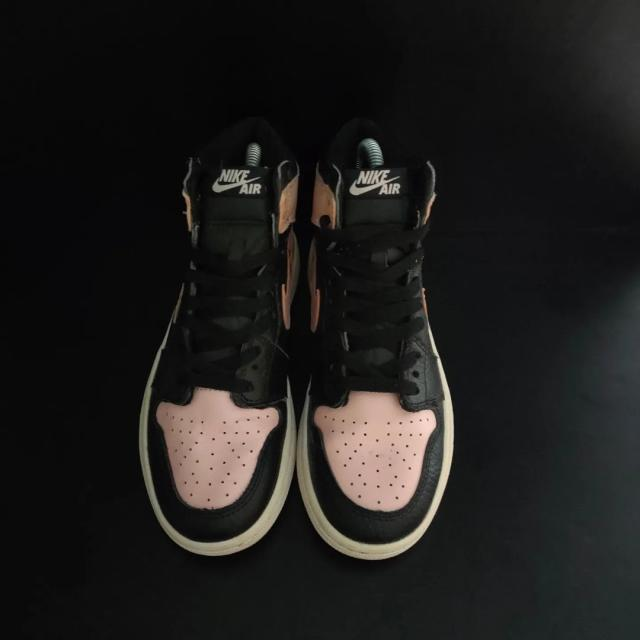nike fake jordan 1: (134, 119, 302, 564), (302, 122, 458, 567)
